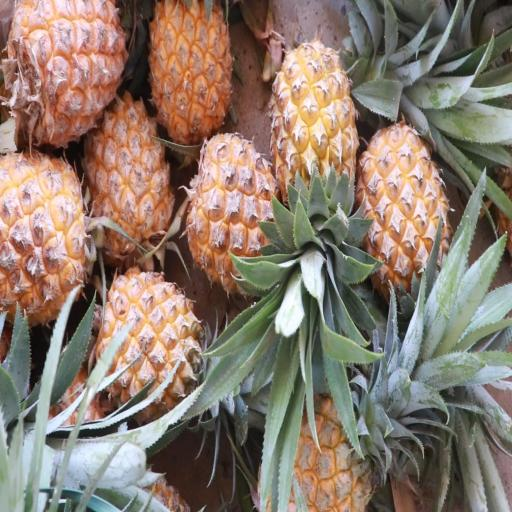Pineapple - v8 v1: (3, 0, 128, 163), (90, 263, 206, 421), (268, 39, 361, 236), (357, 121, 452, 308), (185, 128, 288, 298), (0, 151, 91, 333), (84, 92, 174, 269), (148, 0, 236, 160)
